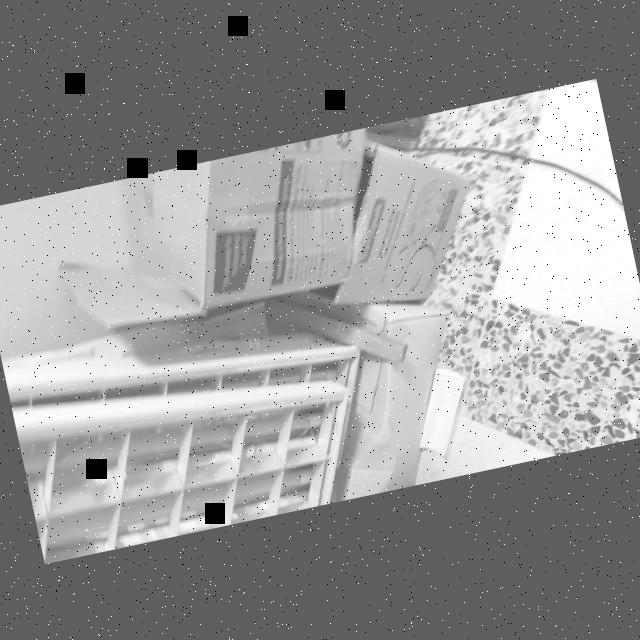cardboard_box: (39, 126, 400, 348), (280, 116, 492, 337), (310, 280, 486, 498)
